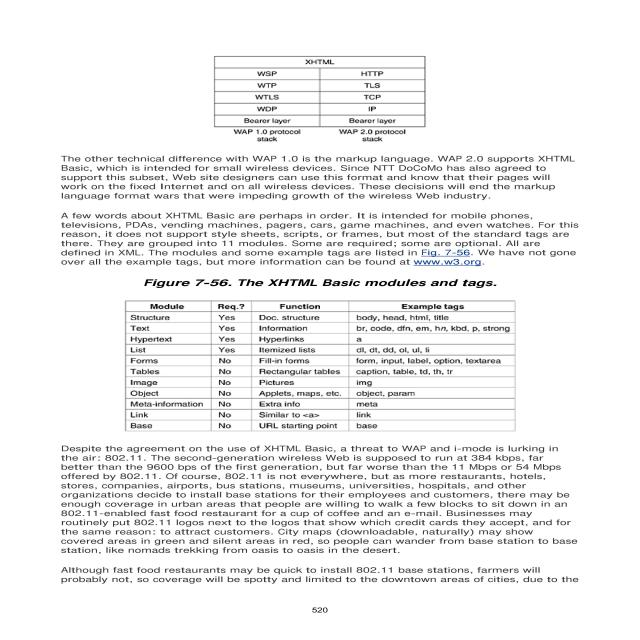diagram: (68, 268, 565, 440)
